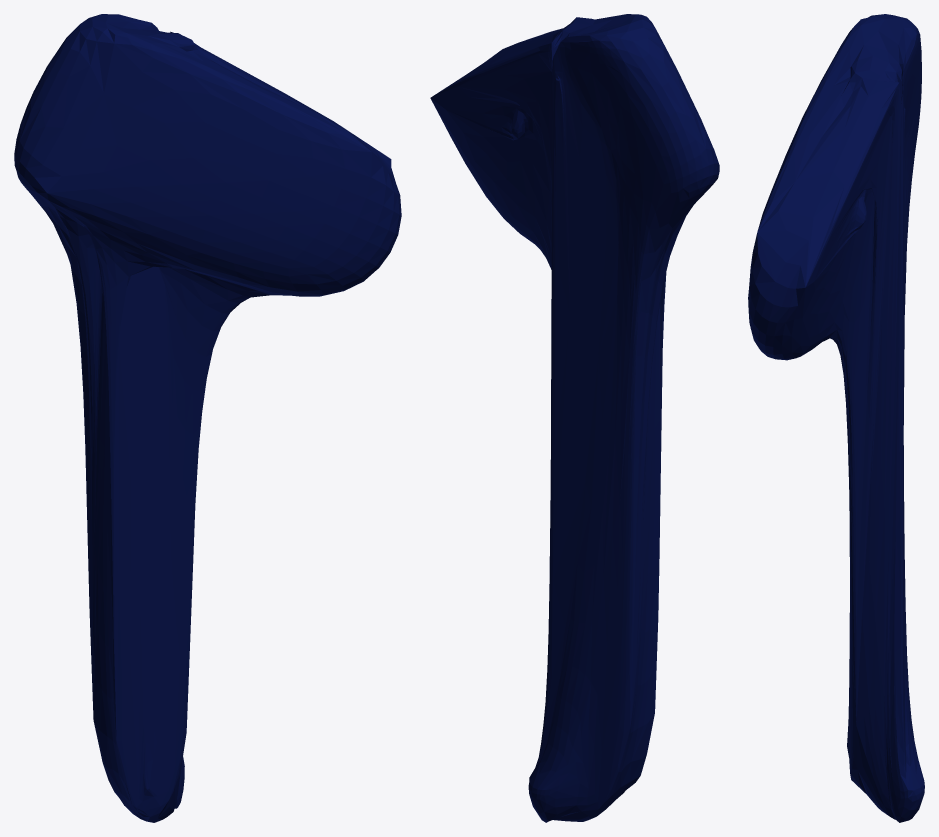
3 views of the same model, side by side, from view 1: azimuth 30°, elevation 25°; view 2: azimuth 150°, elevation 25°; view 3: azimuth 270°, elevation 25° (orthographic). The views are drawn at different scales.
Parts seen in each view (by area): view 1: 728_Cube.2921; view 2: 728_Cube.2921; view 3: 728_Cube.2921.
Part boxes in pixels (x1,y1,x2,y2): 728_Cube.2921: [14, 14, 401, 822]; 728_Cube.2921: [430, 14, 719, 822]; 728_Cube.2921: [748, 14, 924, 822].
Size of the model in its own units: 5.16 by 12.19 by 2.54.
